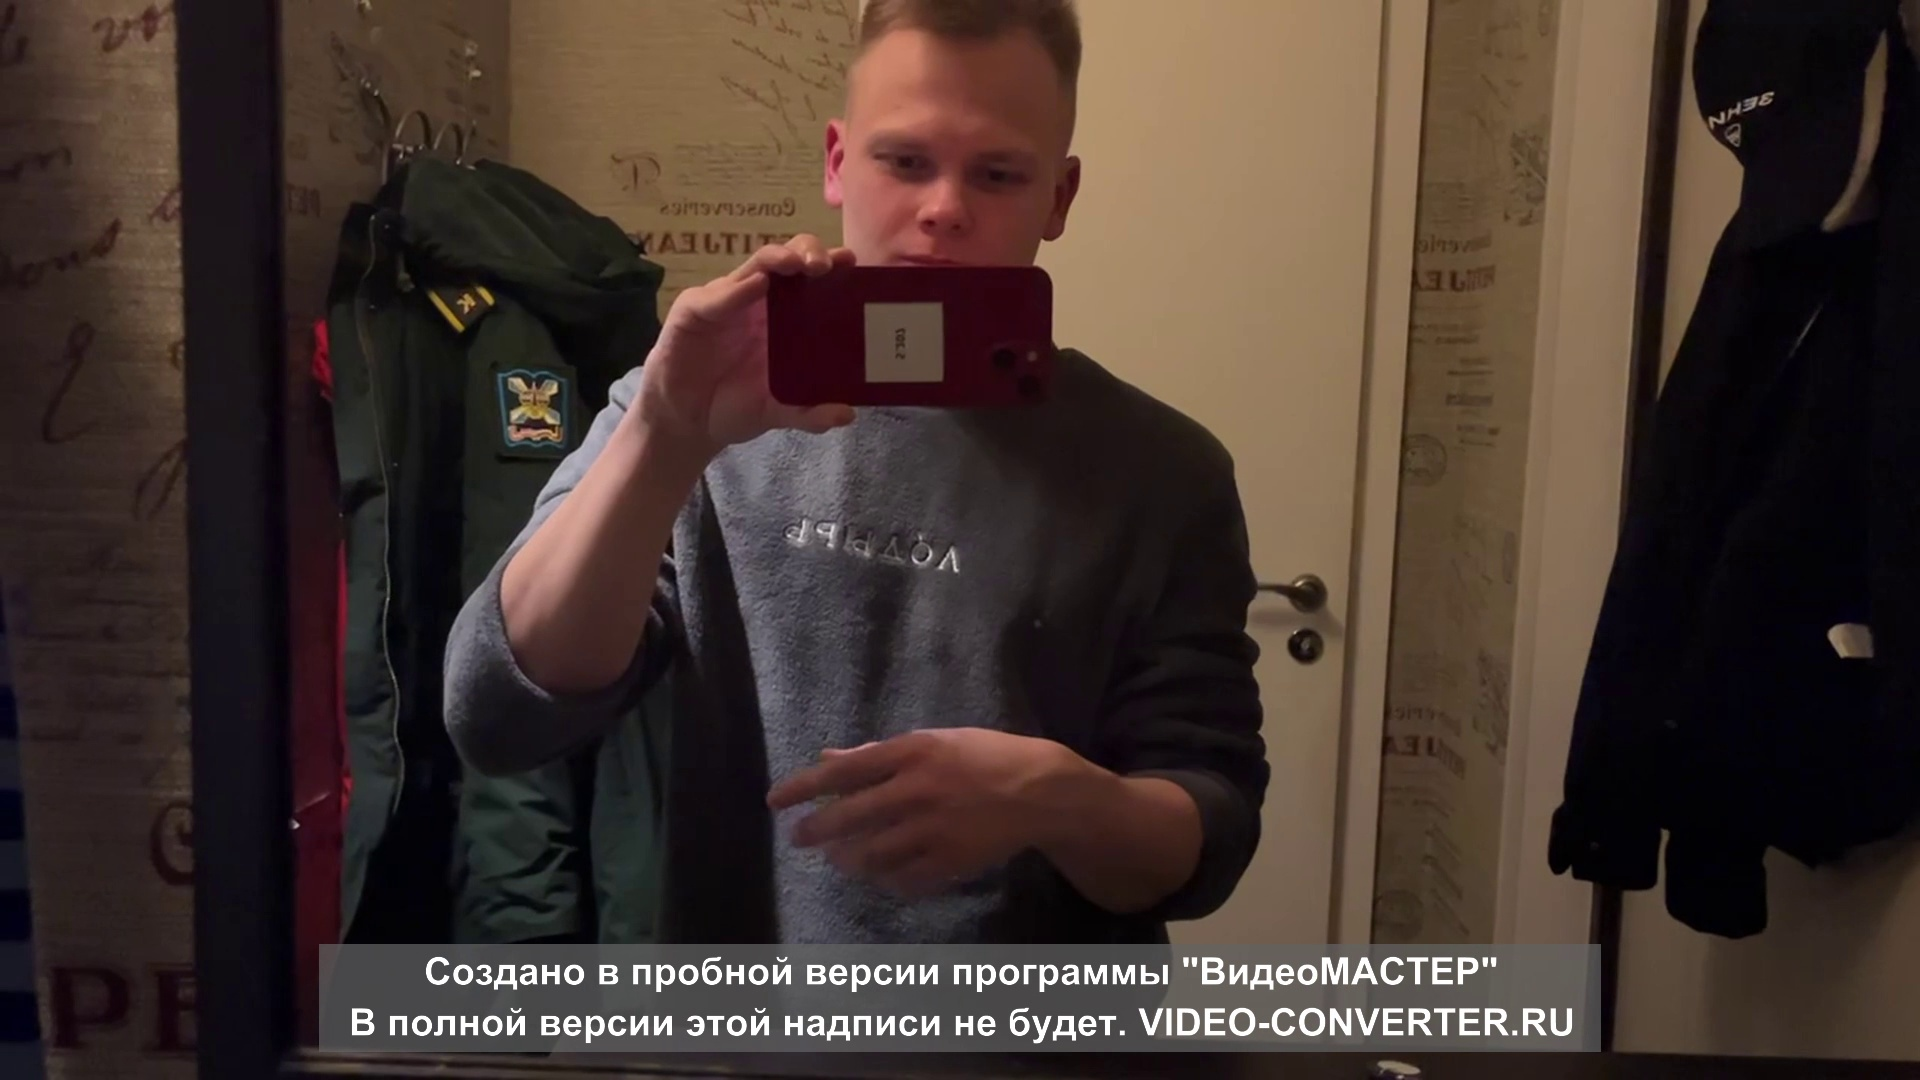Кисть: (769, 729, 1069, 901)
